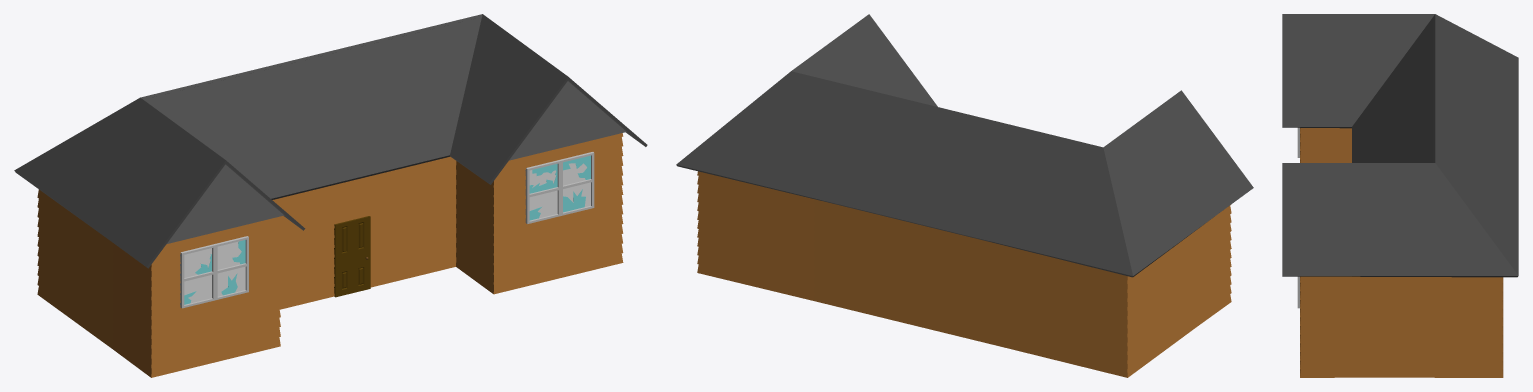
Rendered from another house.fbx.
3 views of the same model, side by side, from view 1: azimuth 30°, elevation 25°; view 2: azimuth 150°, elevation 25°; view 3: azimuth 270°, elevation 25° (orthographic). The views are drawn at different scales.
Parts seen in each view (by area): view 1: Cube.001, Cube.002, Cube.004, Cube.003, Cube, Cube.007, Cube.006, Cube.005, Cube.008, Cube.009; view 2: Cube.001, Cube.002; view 3: Cube.001, Cube.002.
Part boxes in pixels (left/top/right/bottom): Cube.001: left=14, top=14, right=647, bottom=268; Cube.002: left=37, top=133, right=623, bottom=377; Cube.004: left=167, top=164, right=284, bottom=243; Cube.003: left=509, top=81, right=626, bottom=160; Cube: left=184, top=163, right=590, bottom=303; Cube.007: left=334, top=216, right=370, bottom=297; Cube.006: left=180, top=236, right=248, bottom=308; Cube.005: left=525, top=152, right=594, bottom=223; Cube.008: left=529, top=155, right=590, bottom=220; Cube.009: left=184, top=240, right=245, bottom=304; Cube.001: left=676, top=14, right=1253, bottom=277; Cube.002: left=697, top=171, right=1231, bottom=377; Cube.001: left=1282, top=14, right=1518, bottom=277; Cube.002: left=1300, top=128, right=1503, bottom=377.
Bounding box in the file's own units: 1710 × 683 × 782.
